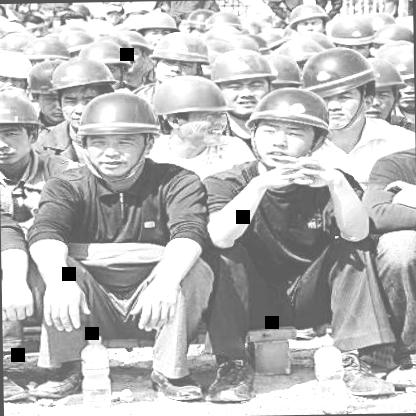helmet: (246, 85, 330, 170), (76, 92, 155, 176), (304, 48, 373, 136), (153, 74, 234, 146), (50, 56, 118, 131), (210, 50, 276, 112), (0, 88, 41, 173), (22, 60, 76, 122), (359, 54, 402, 124), (151, 32, 207, 84), (76, 40, 130, 86), (326, 15, 376, 60), (108, 28, 150, 76), (385, 42, 414, 110), (134, 9, 175, 51), (0, 46, 33, 94), (287, 2, 331, 34)
